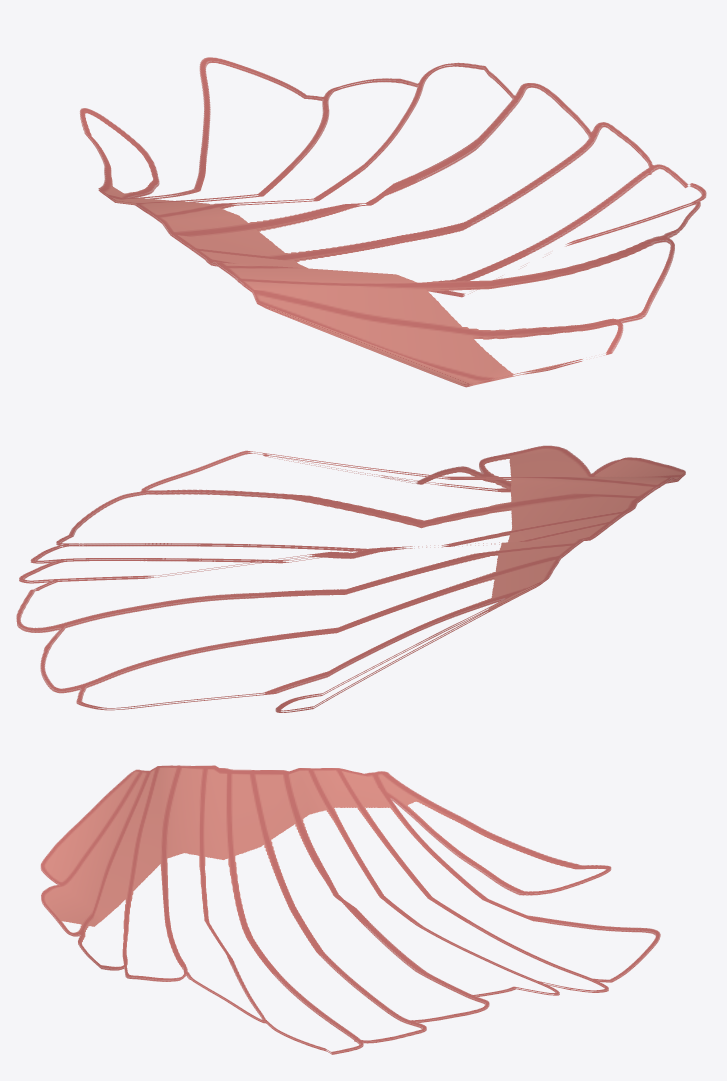
Rendered from fin3.fbx.
The picture shows the model from 3 angles, top to bottom: view 1: azimuth 30°, elevation 25°; view 2: azimuth 150°, elevation 25°; view 3: azimuth 270°, elevation 25°; orthographic projection. The views are drawn at different scales.
Visible parts, largest first — view 1: fin3; view 2: fin3; view 3: fin3.
Part boxes in pixels (x1=…): fin3: x1=79, y1=57, x2=706, y2=387; fin3: x1=16, y1=445, x2=685, y2=712; fin3: x1=40, y1=765, x2=660, y2=1054.
Bounding box in the file's own units: 17.33 × 3.29 × 22.86.
